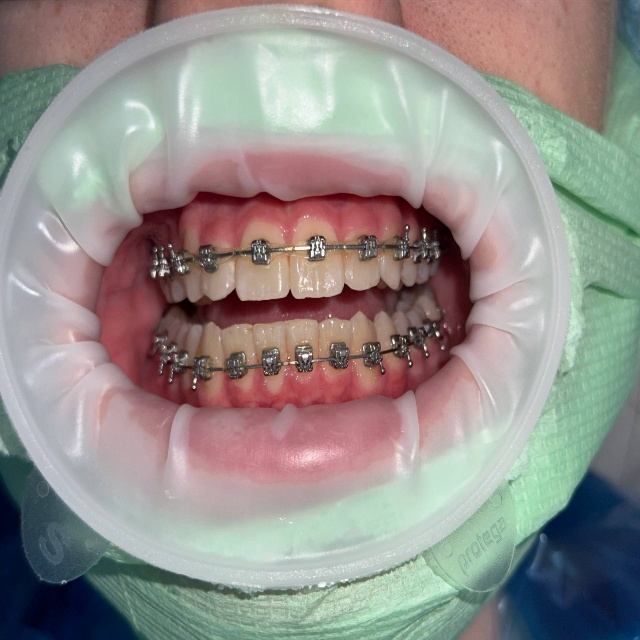clean_tooth: (240, 258, 341, 298), (206, 322, 285, 362), (283, 312, 367, 345), (346, 259, 379, 287)
plaque: (500, 472, 639, 639), (20, 502, 76, 583), (92, 622, 134, 639)
